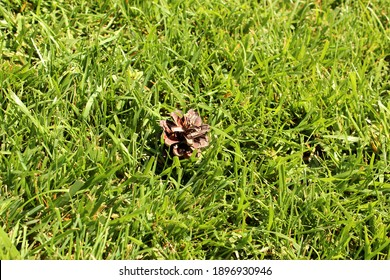Pc: (161, 110, 208, 161)
